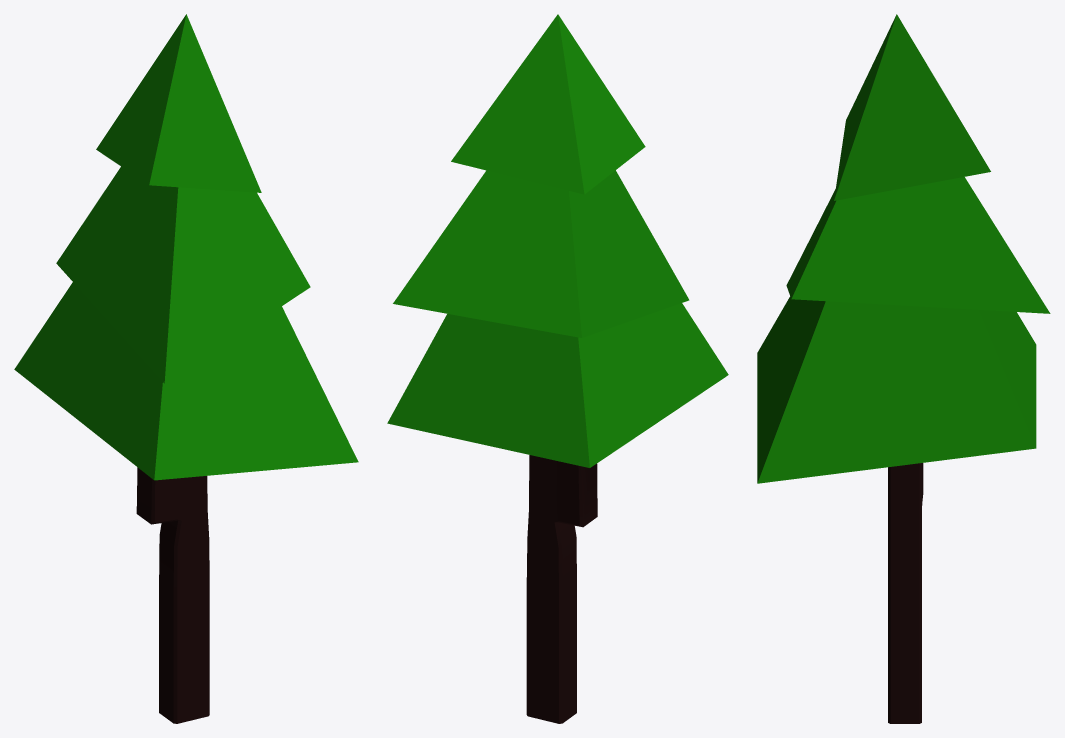
File: tree1.FBX
The picture shows the model from 3 angles, left to right: view 1: azimuth 30°, elevation 25°; view 2: azimuth 150°, elevation 25°; view 3: azimuth 270°, elevation 25°; orthographic projection.
Parts seen in each view (by area): view 1: Tree1; view 2: Tree1; view 3: Tree1.
Part boxes in pixels (x1,y1,x2,y2): Tree1: (14, 14, 358, 723); Tree1: (387, 14, 728, 723); Tree1: (757, 14, 1050, 723).
Size of the model in its own units: 56.78 by 187 by 70.83.
